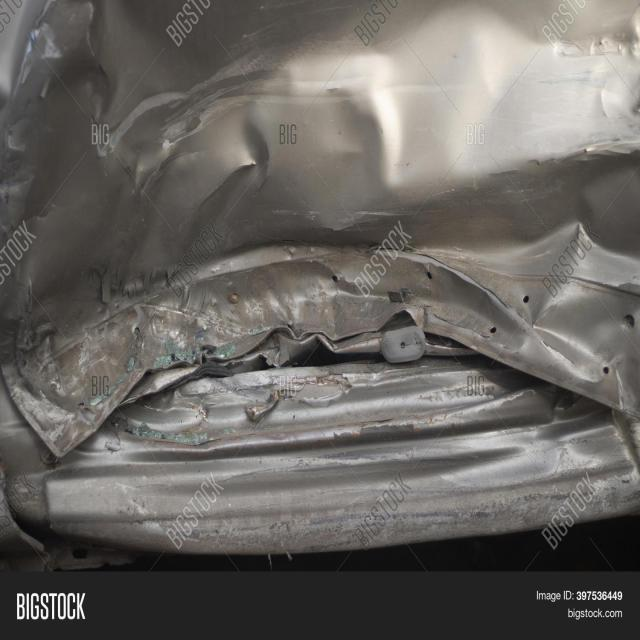dent: (152, 56, 389, 264)
